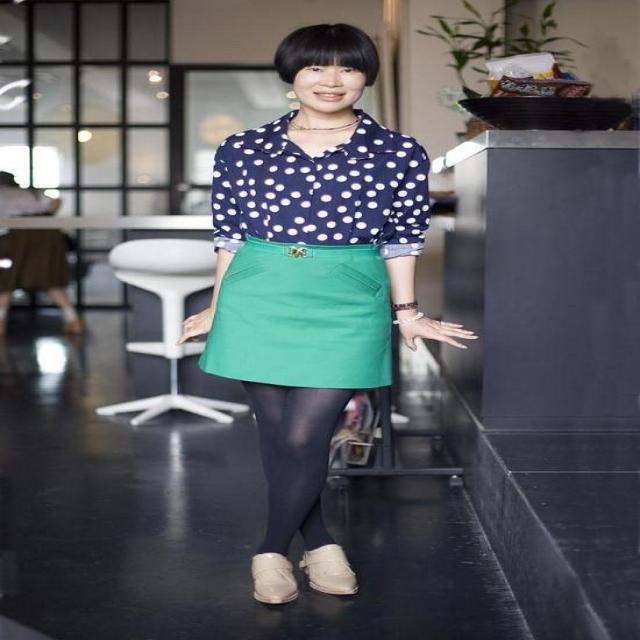shirt: (210, 108, 432, 260)
skirt: (200, 232, 395, 389)
